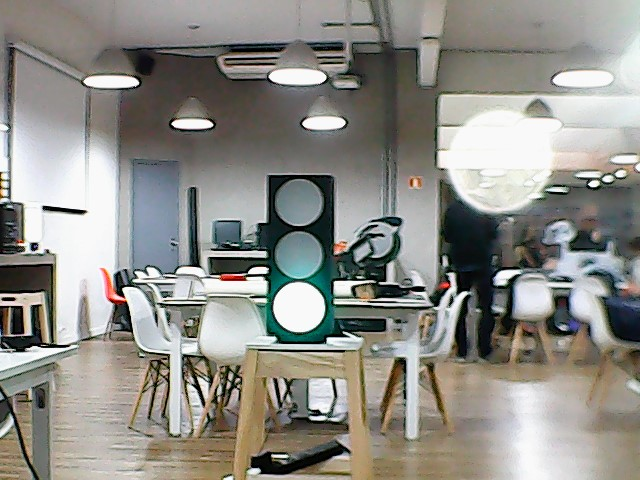verde: (263, 167, 339, 347)
